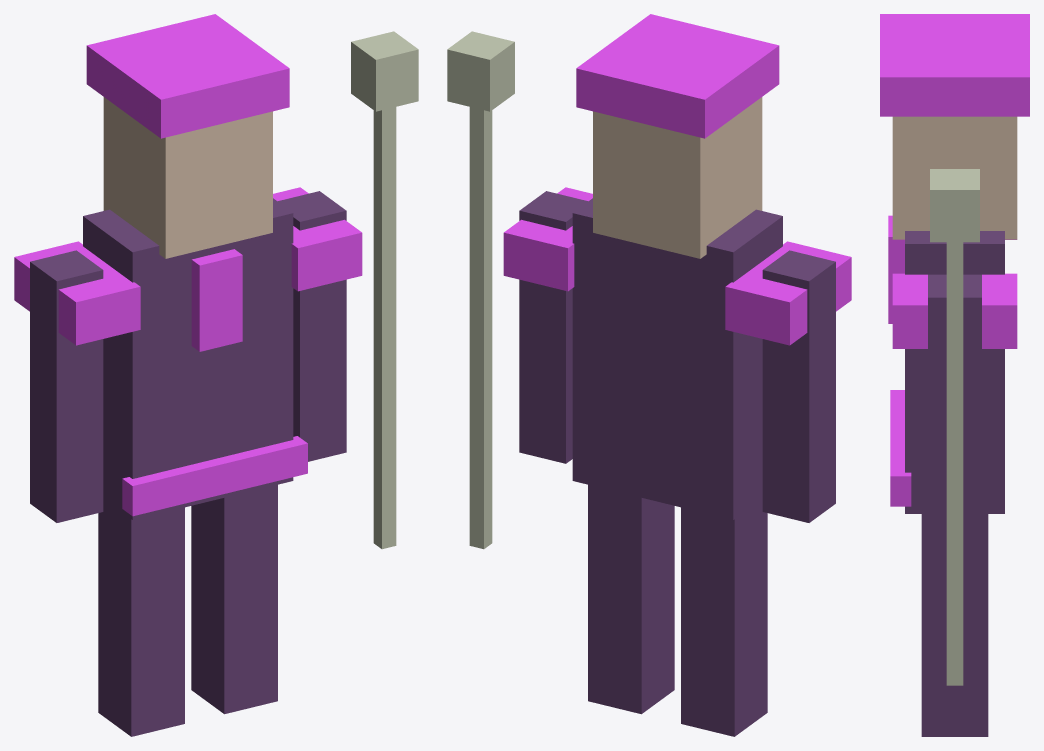
File: 20_sable_chromabell_archivist_of_life.glb
The picture shows the model from 3 angles, left to right: view 1: azimuth 30°, elevation 25°; view 2: azimuth 150°, elevation 25°; view 3: azimuth 270°, elevation 25°; orthographic projection.
Parts seen in each view (by area): view 1: Sable Chromabell, Archivist of Life; view 2: Sable Chromabell, Archivist of Life; view 3: Sable Chromabell, Archivist of Life.
Boxes of the visible parts, box(x1,y1,x2,y2) form: Sable Chromabell, Archivist of Life: box(14, 14, 418, 736); Sable Chromabell, Archivist of Life: box(447, 14, 851, 736); Sable Chromabell, Archivist of Life: box(880, 14, 1029, 736).
Size of the model in its own units: 0.9665 by 1.65 by 0.3428.
